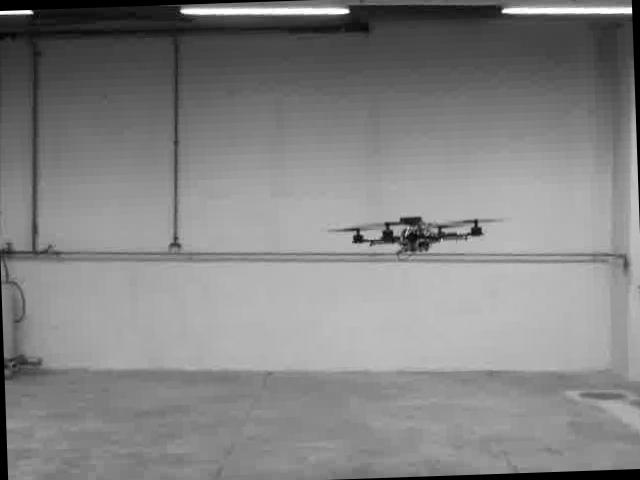drone: (341, 211, 492, 259)
